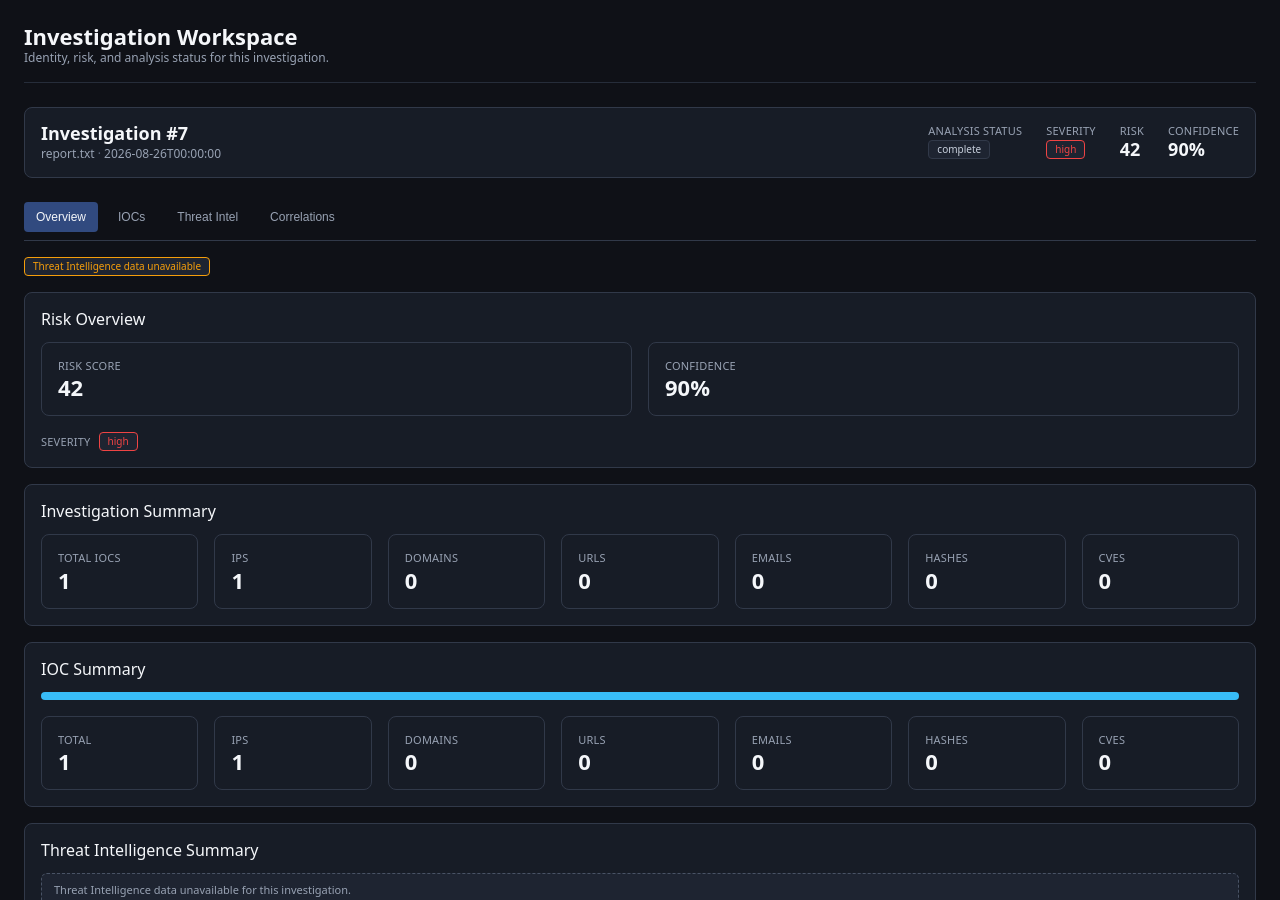
Test: InvestigationWorkspacePage › Threat Intel tab (Part 3A) › shows the honest unavailable state on the Threat Intel tab when TI data failed to load
The width and height of the screenshot is (1280, 900).
Click the tab "Threat Intel".
click(208, 217)  # box [165,202,250,232]
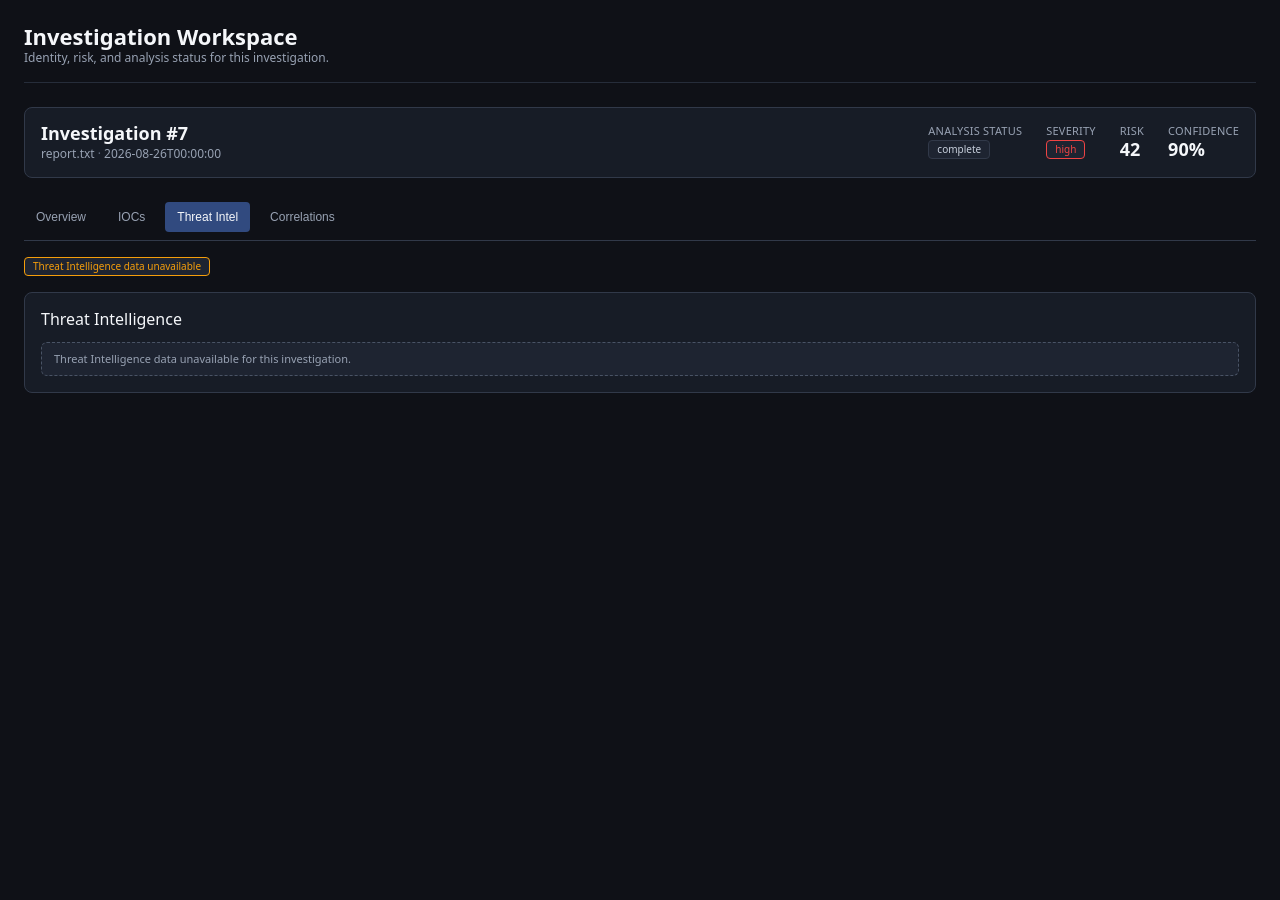
Now the element with class "investigation-threat-intel" shows "Threat Intelligence data unavailable", box [54,351,351,366]
